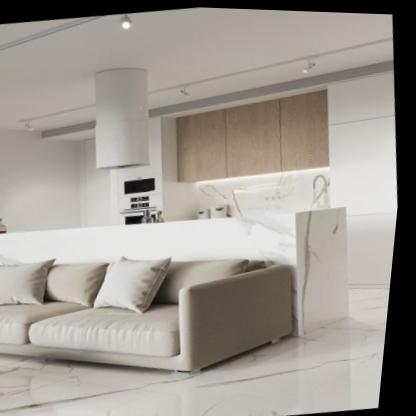Ceramic floor: (0, 279, 396, 416)
